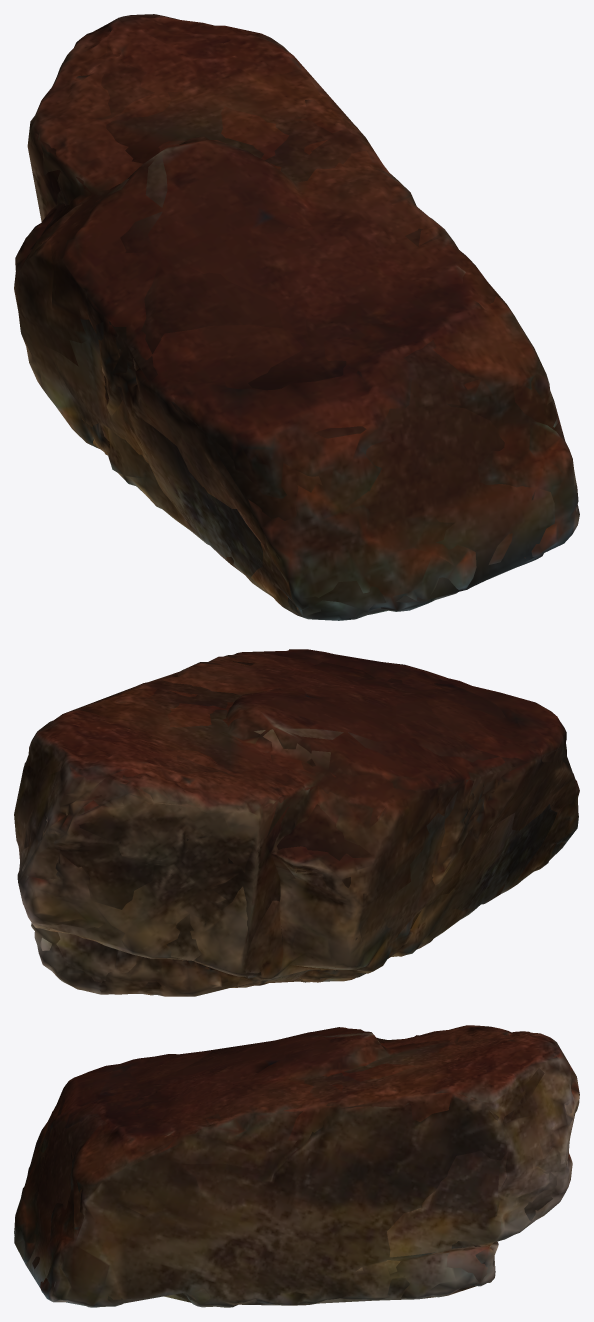
Rendered from rock_07.glb.
3 renders of one model, top to bottom at view 1: azimuth 30°, elevation 25°; view 2: azimuth 150°, elevation 25°; view 3: azimuth 270°, elevation 25°, orthographic. The views are drawn at different scales.
Visible parts, largest first — view 1: rock_07, rock_07_lo; view 2: rock_07, rock_07_lo; view 3: rock_07, rock_07_lo.
Part boxes in pixels (bbox=[...]): rock_07: bbox=[14, 14, 579, 620]; rock_07_lo: bbox=[15, 24, 577, 616]; rock_07: bbox=[14, 649, 579, 996]; rock_07_lo: bbox=[14, 650, 576, 996]; rock_07: bbox=[14, 1025, 579, 1307]; rock_07_lo: bbox=[14, 1033, 576, 1305].
Bounding box in the file's own units: 0.1686 × 0.1437 × 0.3202.
1 material, 1 textured.
